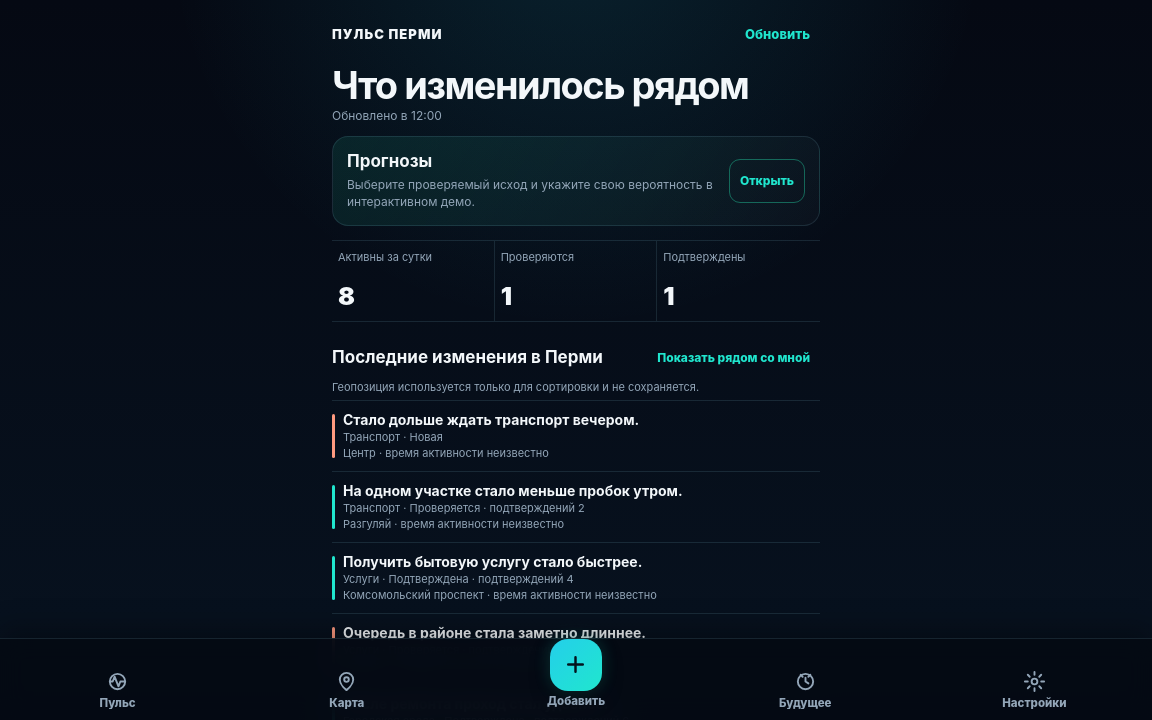
Scenario: MobilePulsePage › keeps city data during refresh and preserves it after refresh failure
Click the button "Обновить".
click(778, 34)  # box top-left (735, 12), bottom-right (820, 56)
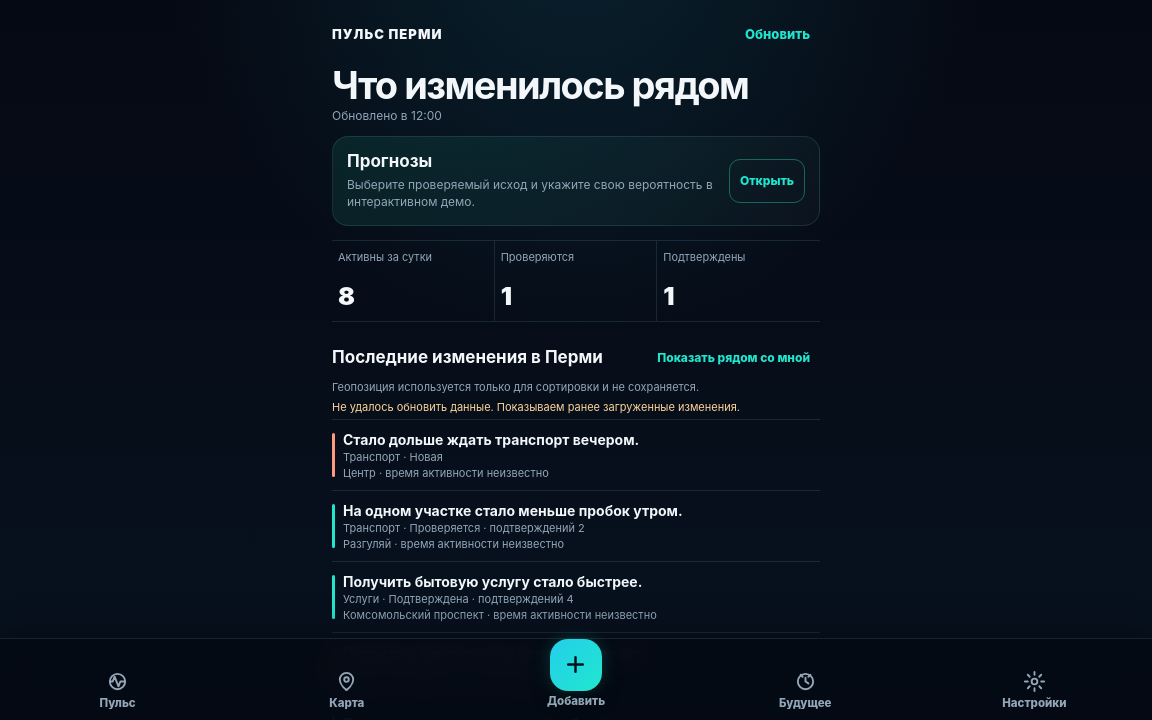
Expected: the text "Стало дольше ждать транспорт вечером." is shown, top-left (343, 431), bottom-right (639, 448)
Now the text "Не удалось обновить данные. Показываем ранее загруженные изменения." is shown, box top-left (332, 400), bottom-right (740, 414)
